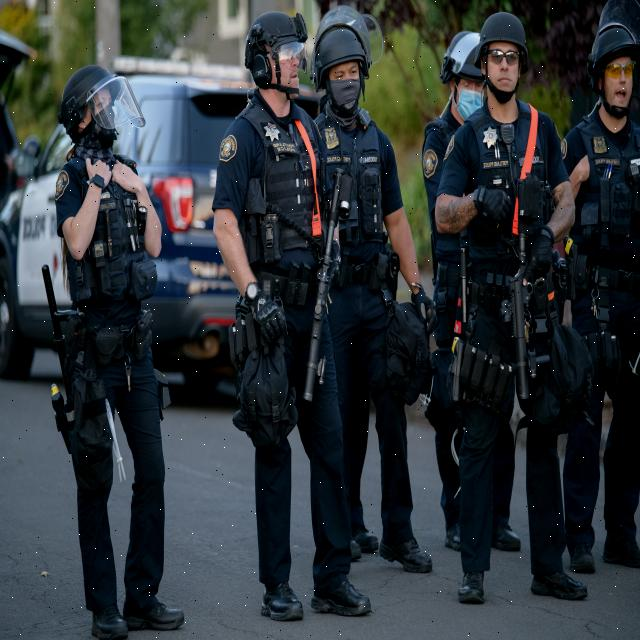police: (216, 3, 372, 622), (436, 9, 593, 617), (57, 54, 176, 640), (317, 3, 425, 591), (567, 16, 640, 571)
